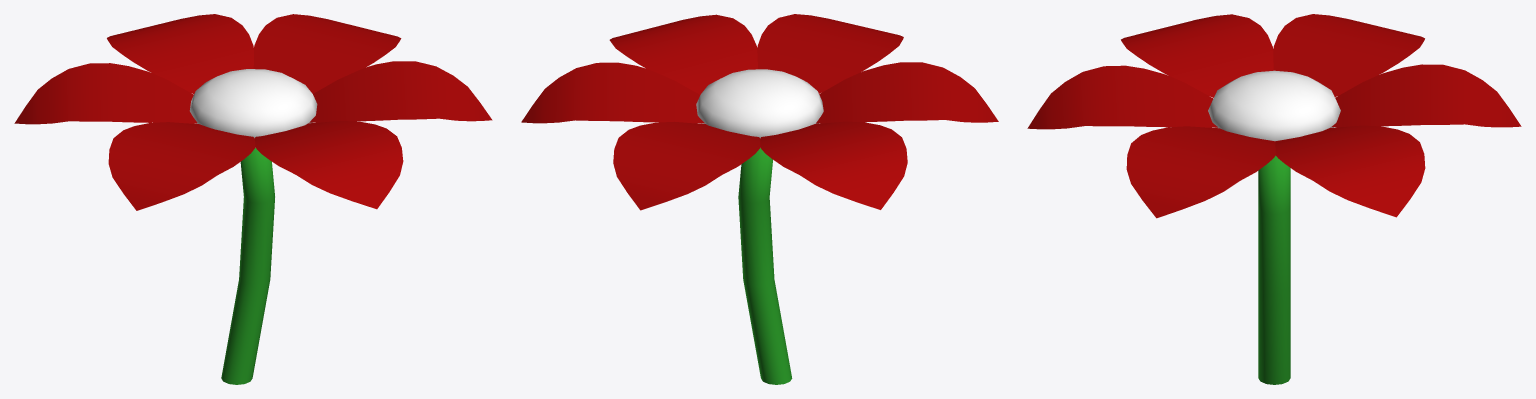
File: FlowerB.fbx
3 renders of one model, left to right at view 1: azimuth 30°, elevation 25°; view 2: azimuth 150°, elevation 25°; view 3: azimuth 270°, elevation 25°, orthographic. The views are drawn at different scales.
Visible parts, largest first — view 1: FlowerB; view 2: FlowerB; view 3: FlowerB.
Boxes of the visible parts, left/top/right/bottom form: FlowerB: left=14, top=14, right=492, bottom=384; FlowerB: left=521, top=14, right=998, bottom=384; FlowerB: left=1027, top=14, right=1521, bottom=384.
Bounding box in the file's own units: 1.26 × 1.44 × 0.9771.
